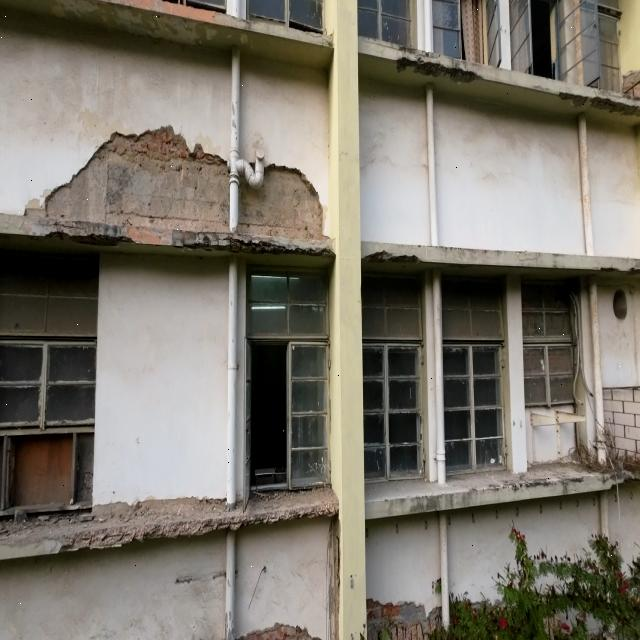peeling: (0, 485, 338, 559), (397, 56, 477, 82), (585, 89, 640, 116), (559, 91, 583, 105)
spalling: (25, 127, 329, 255)
stain_mould: (111, 0, 224, 23)
